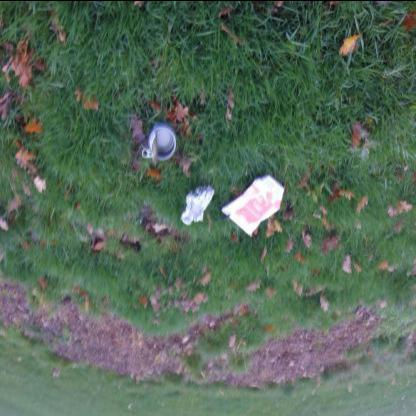Aluminium foil: (180, 184, 214, 225)
Can: (143, 122, 177, 163)
Carton: (221, 174, 284, 235)
Pop tab: (142, 148, 153, 156)
Straw: (216, 214, 230, 222)
